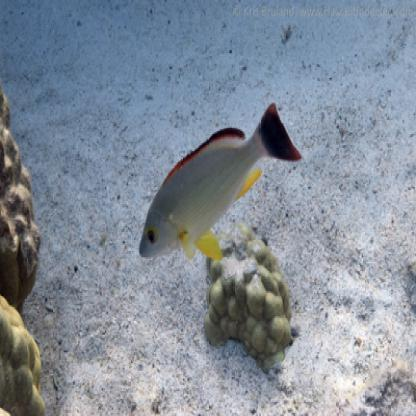Bio: (136, 96, 303, 270)
